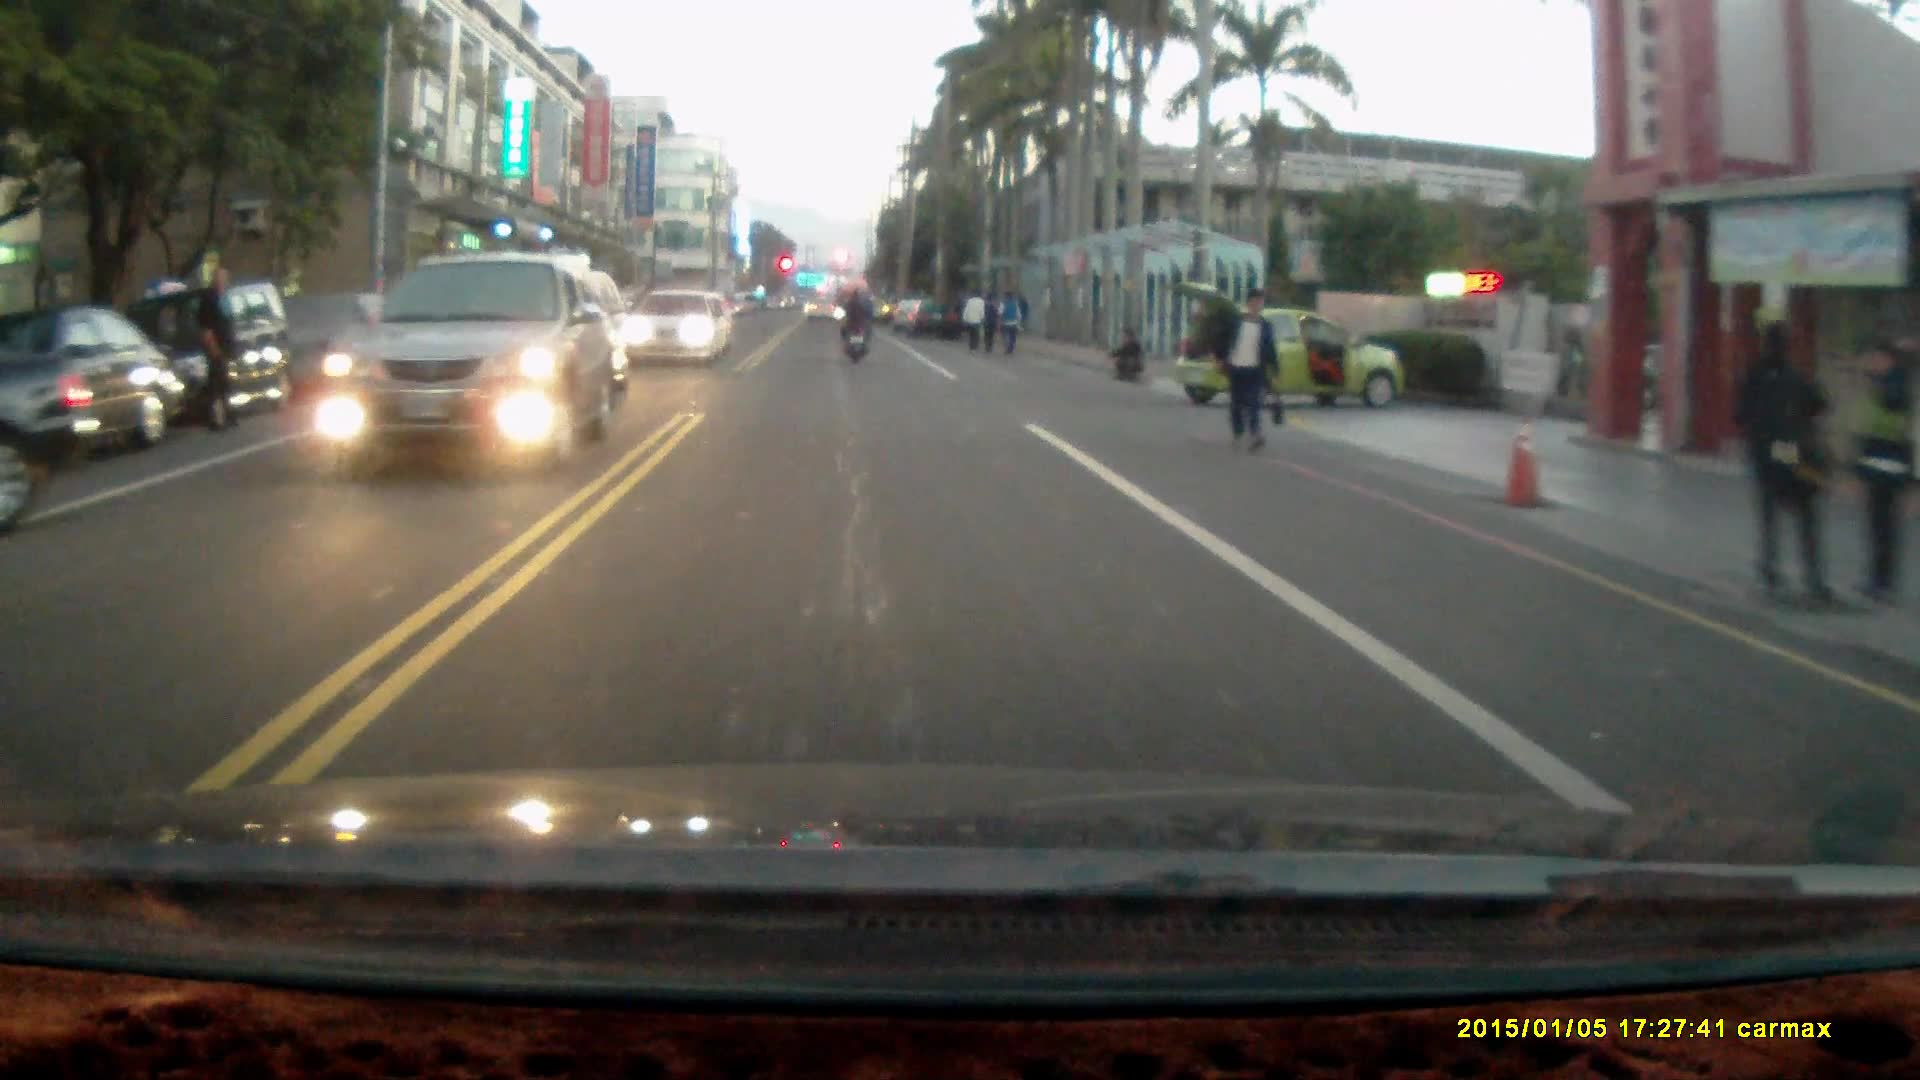pedestrian: (1728, 317, 1853, 621), (1848, 332, 1904, 607), (1214, 285, 1285, 456), (1108, 325, 1142, 383), (996, 286, 1022, 356), (964, 291, 987, 363), (981, 292, 1002, 358)
rider: (836, 288, 875, 367)
vehicle: (323, 255, 619, 467), (1174, 279, 1407, 415), (137, 281, 299, 429), (0, 311, 103, 536), (628, 292, 737, 370)
